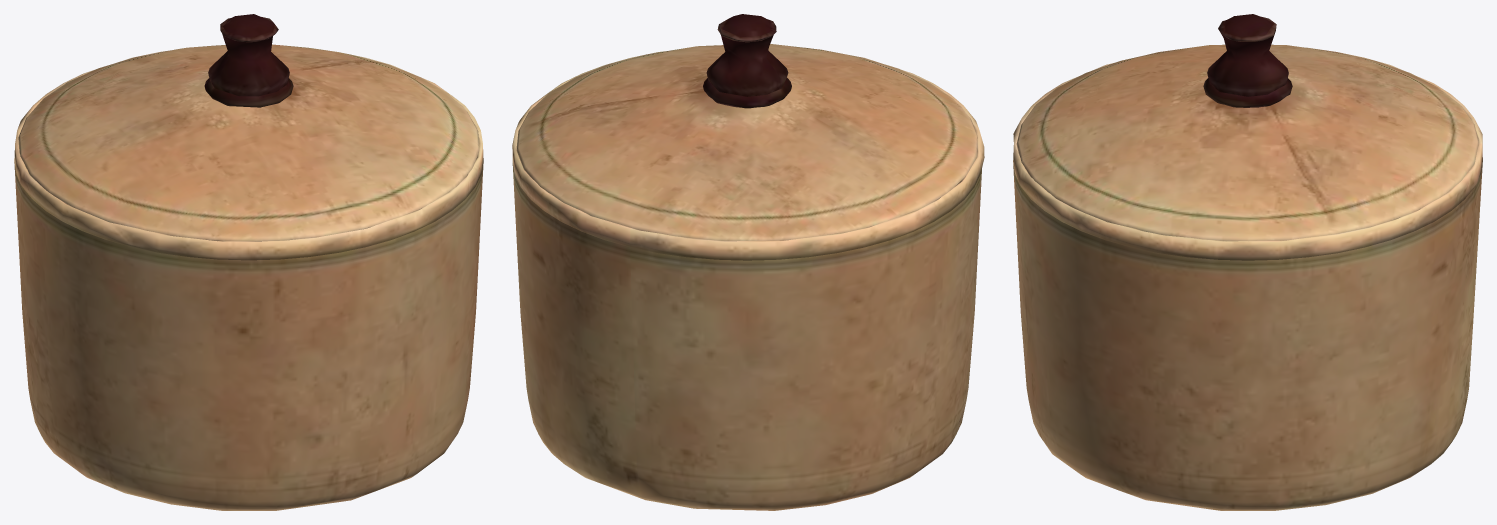
Rendered from brass_pot_01.glb.
3 renders of one model, left to right at view 1: azimuth 30°, elevation 25°; view 2: azimuth 150°, elevation 25°; view 3: azimuth 270°, elevation 25°, orthographic.
Parts seen in each view (by area): view 1: brass_pot_01; view 2: brass_pot_01; view 3: brass_pot_01.
Part boxes in pixels (x1=…): brass_pot_01: x1=14, y1=14, x2=483, y2=510; brass_pot_01: x1=512, y1=14, x2=984, y2=510; brass_pot_01: x1=1013, y1=14, x2=1482, y2=510.
Bounding box in the file's own units: 0.3011 × 0.2909 × 0.2992.
1 material, 1 textured.
